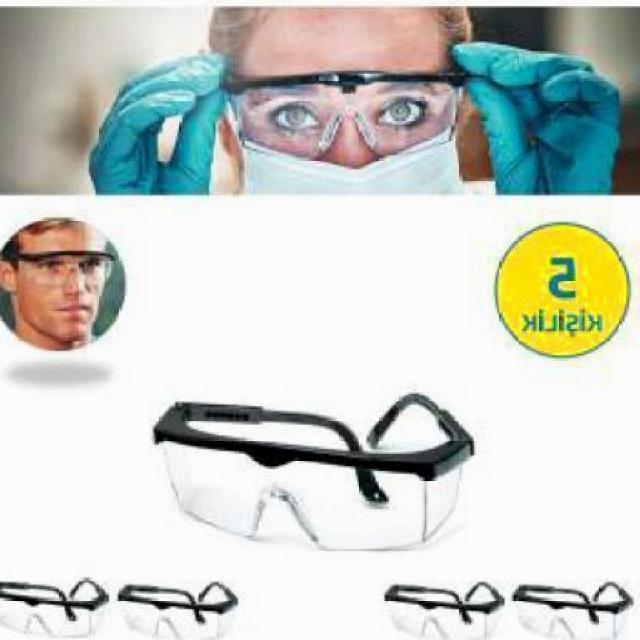face_nomask: (25, 246, 109, 323)
glasses: (144, 383, 471, 562), (219, 67, 464, 162), (7, 247, 118, 291)
hand_glove: (456, 38, 633, 198), (90, 46, 239, 197)
